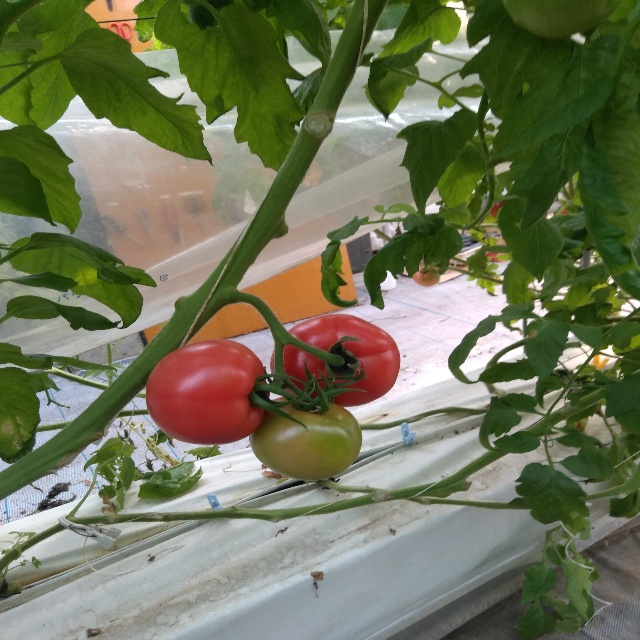b_fully_ripened: (146, 339, 269, 445), (270, 314, 401, 407)
b_green: (249, 394, 363, 481), (503, 0, 622, 39)
